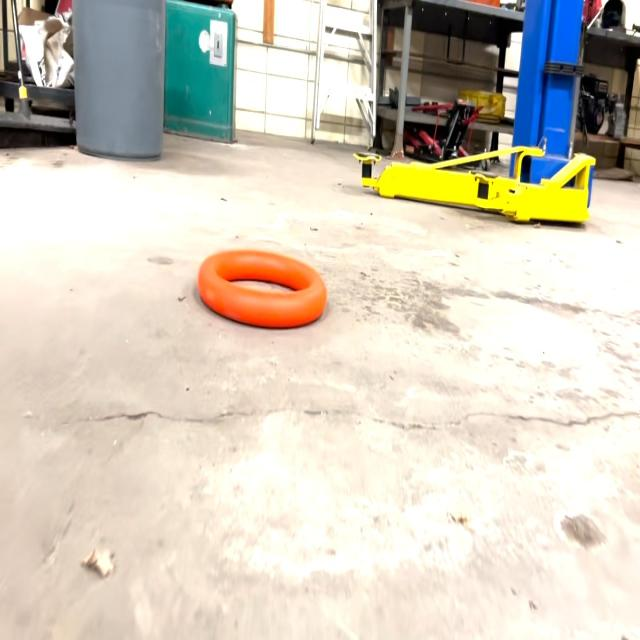note: (195, 242, 328, 328)
